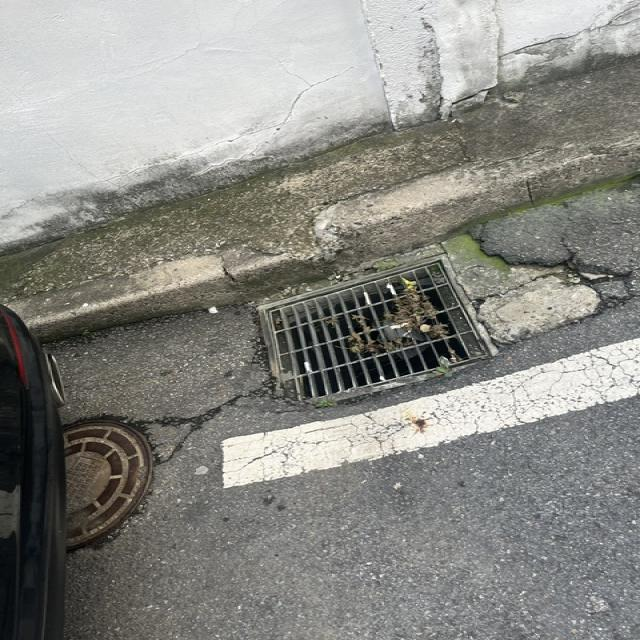drain_area: (282, 268, 472, 402)
drain_full: (270, 264, 488, 405)
